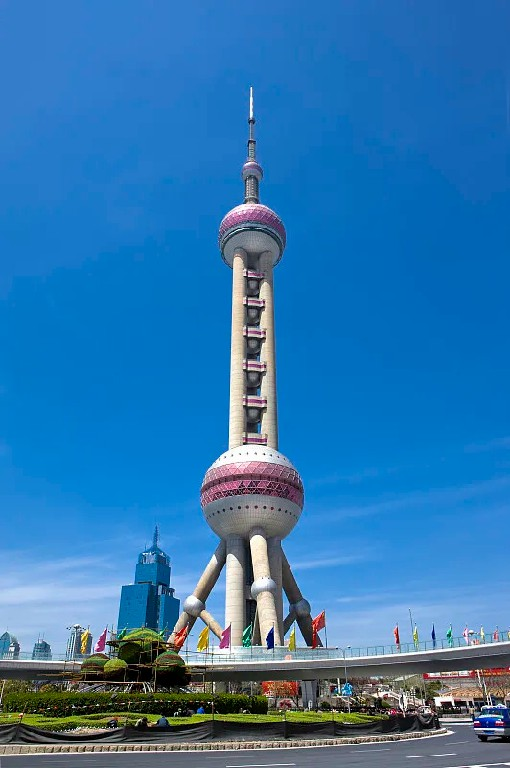Oriental: (168, 87, 324, 649)
